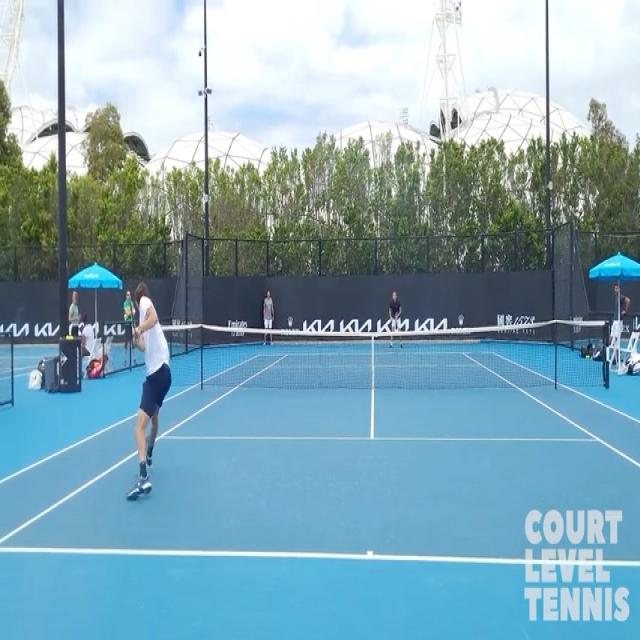backhand-ready: (98, 264, 181, 521)
